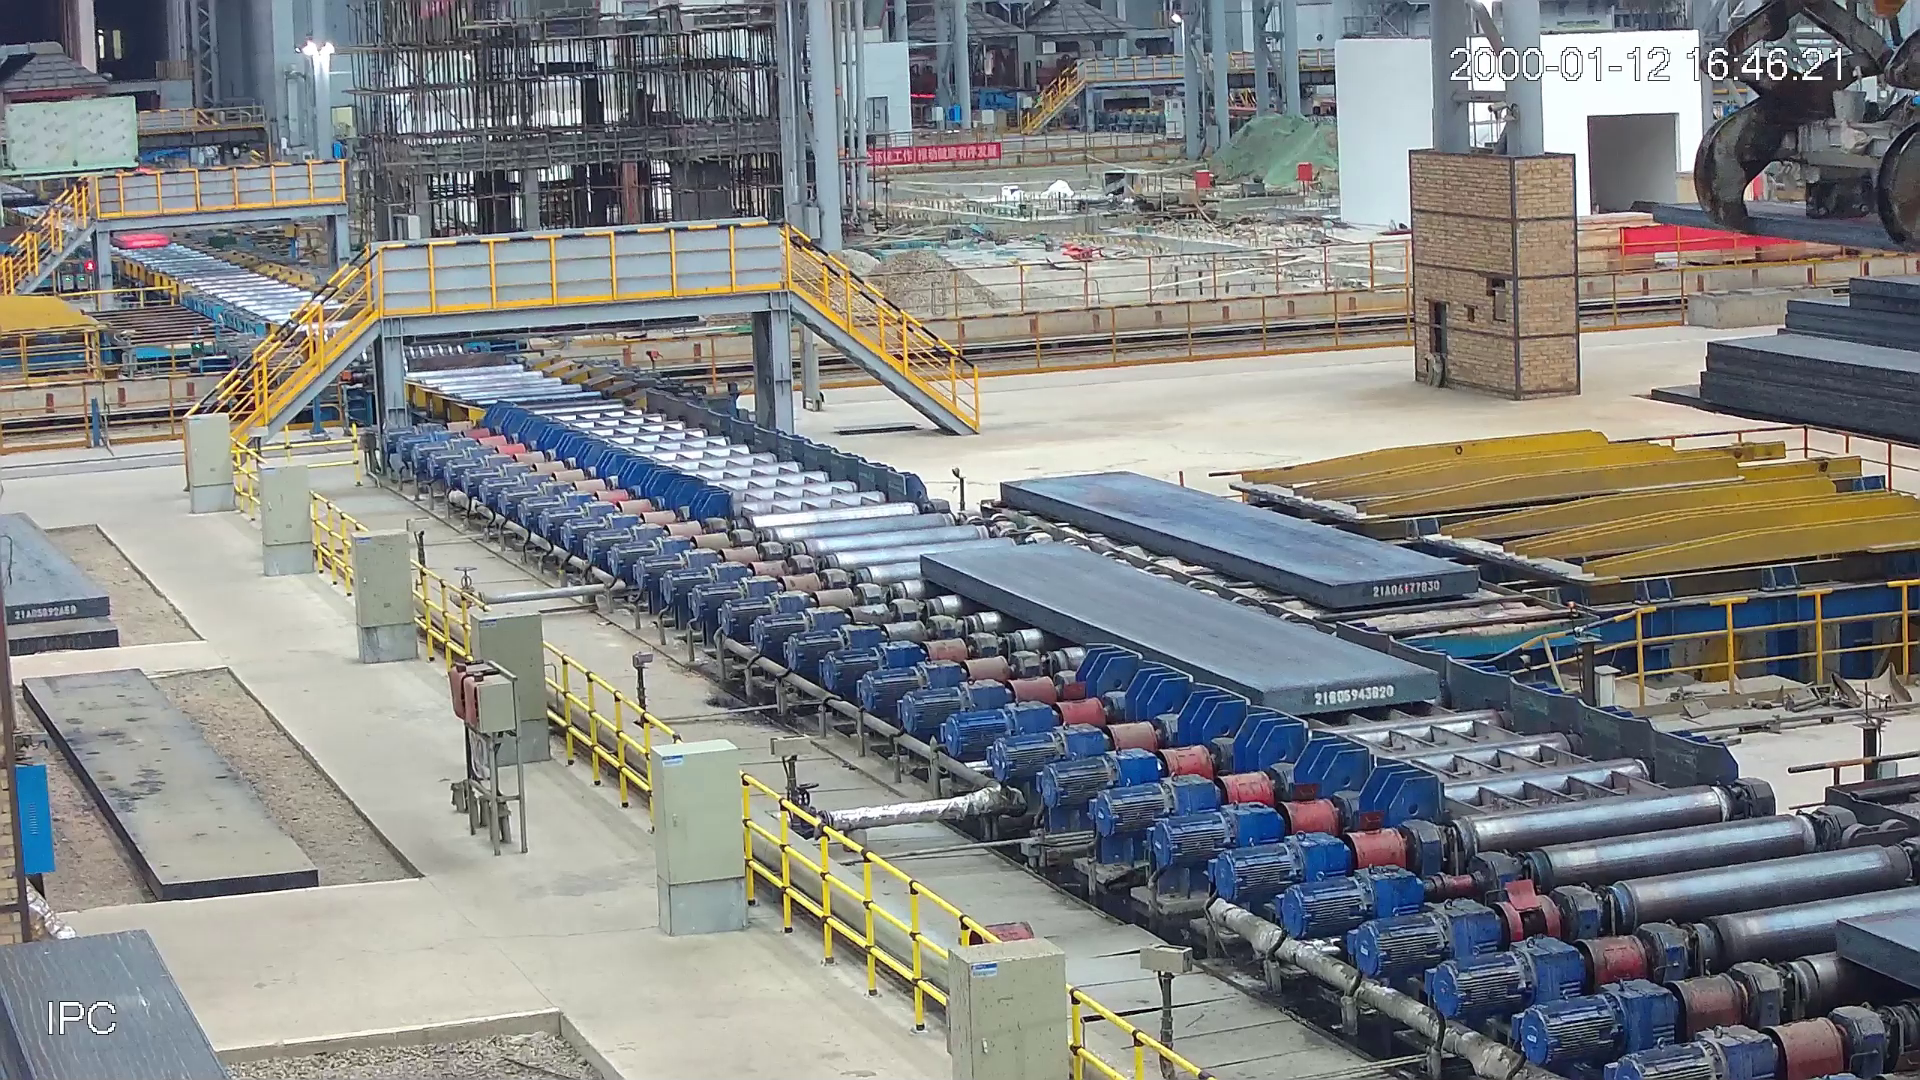slab: (920, 551, 1437, 715), (1000, 476, 1476, 608)
